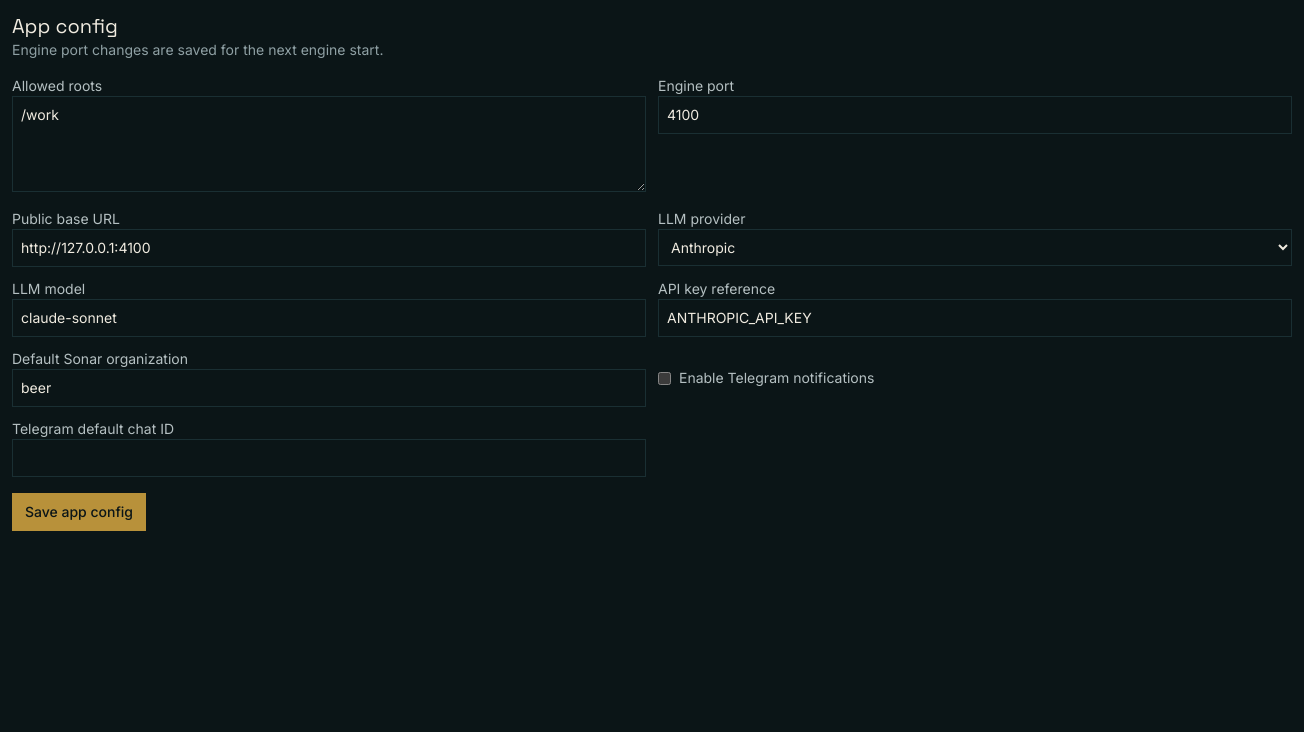
Scenario: AppConfigSection › AC-8 refreshes visible values from the backend response
The image size is (1304, 732).
Click the button "Save app config". click: (79, 512)
box: x1=12 y1=493 x2=146 y2=531
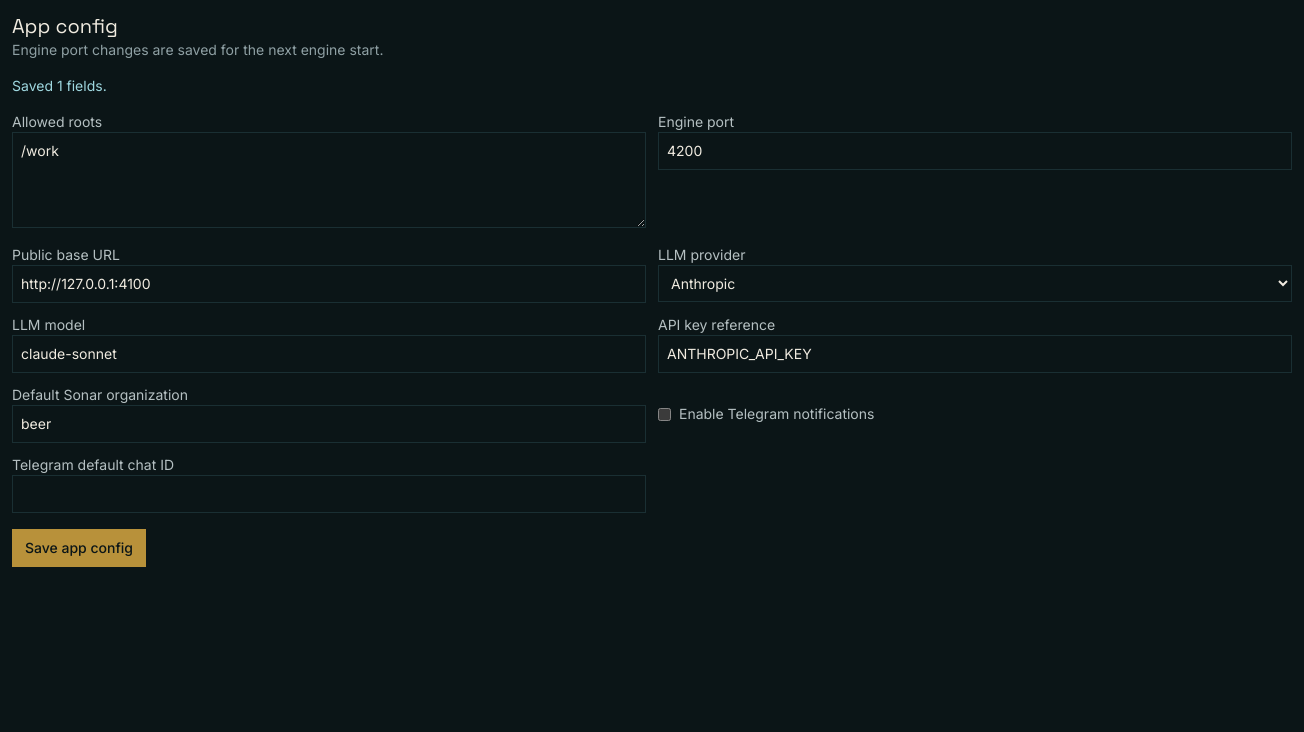
Expected: the number field labelled "Engine port" holds "4200", x1=658 y1=132 x2=1292 y2=170
